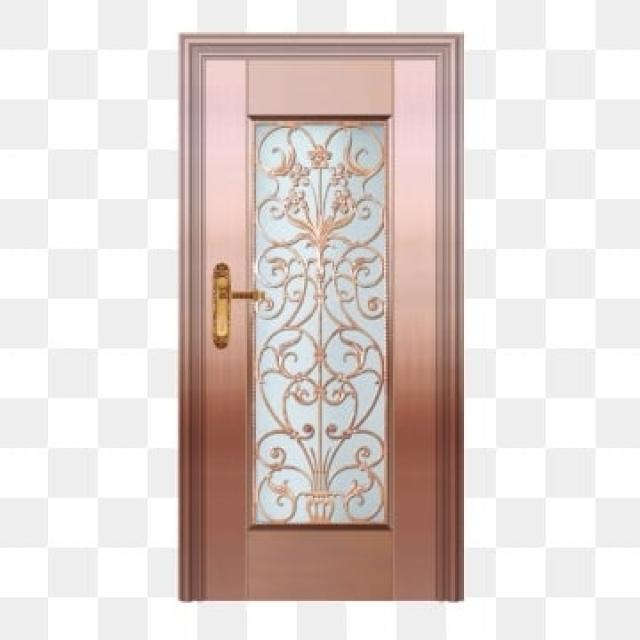door: (178, 32, 464, 603)
